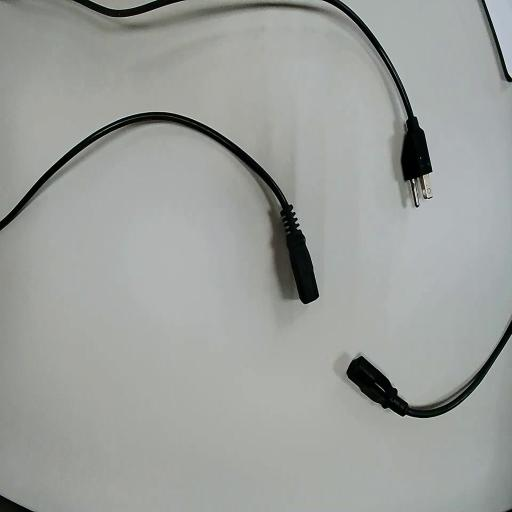wire: (0, 113, 317, 302), (327, 0, 430, 180), (347, 323, 511, 416)
